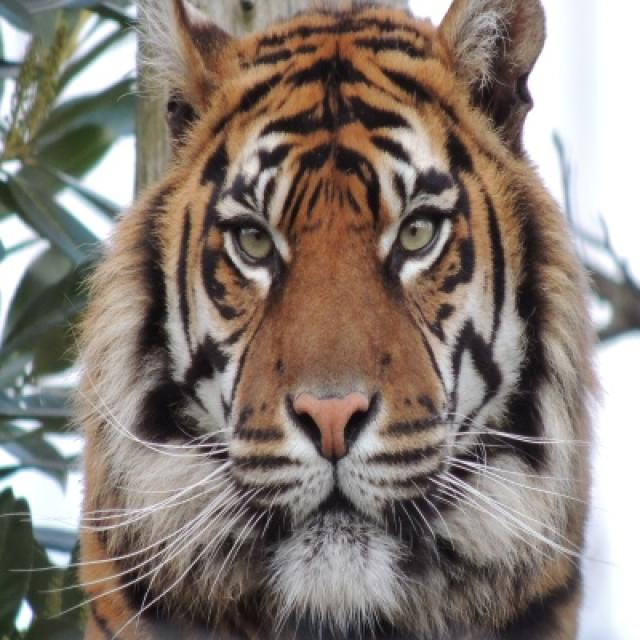Tiger: (74, 0, 592, 638)
